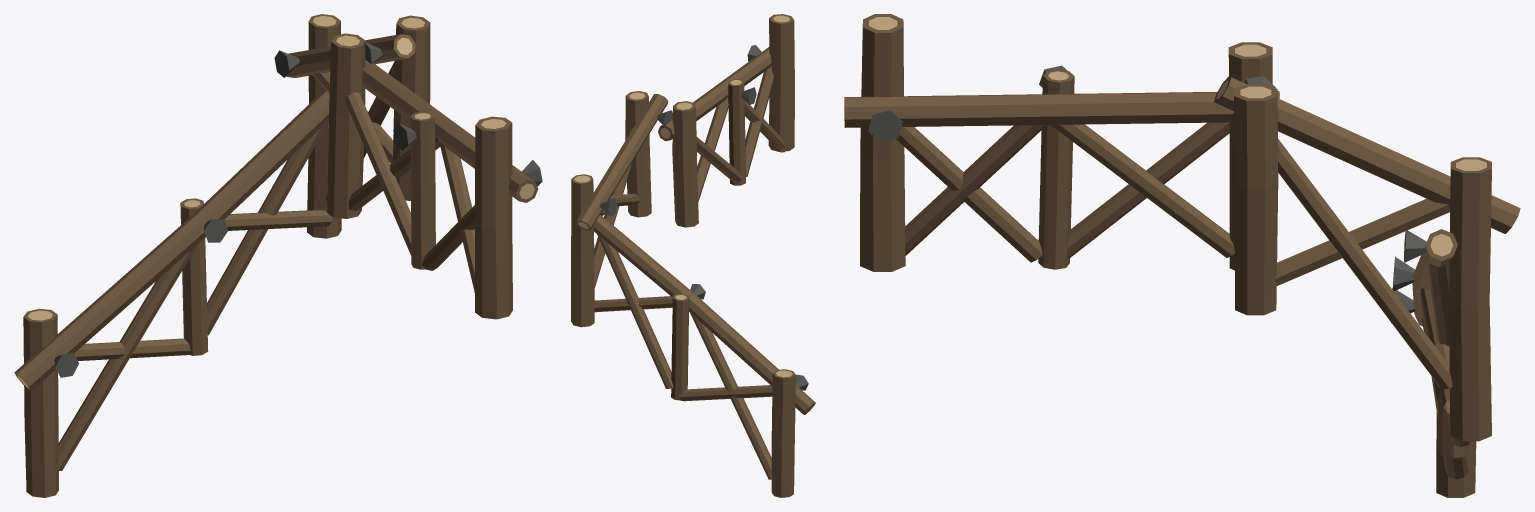
The model's file is rpgpp_ag_stairs_interior_02c_3m_handrail_01.fbx.
3 views of the same model, side by side, from view 1: azimuth 30°, elevation 25°; view 2: azimuth 150°, elevation 25°; view 3: azimuth 270°, elevation 25° (orthographic). The views are drawn at different scales.
Visible parts, largest first — view 1: rpgpp_ag_stairs_interior_02c_3m_handrail_01; view 2: rpgpp_ag_stairs_interior_02c_3m_handrail_01; view 3: rpgpp_ag_stairs_interior_02c_3m_handrail_01.
Part boxes in pixels (x1,y1,x2,y2): rpgpp_ag_stairs_interior_02c_3m_handrail_01: (14,14,542,497); rpgpp_ag_stairs_interior_02c_3m_handrail_01: (571,14,815,497); rpgpp_ag_stairs_interior_02c_3m_handrail_01: (844,14,1520,497).
Size of the model in its own units: 3.35 by 4.42 by 4.47.
